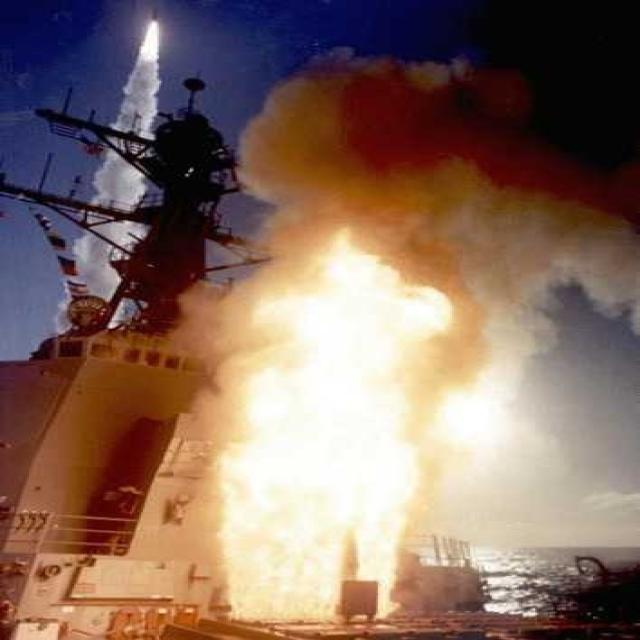missile: (147, 5, 162, 22)
